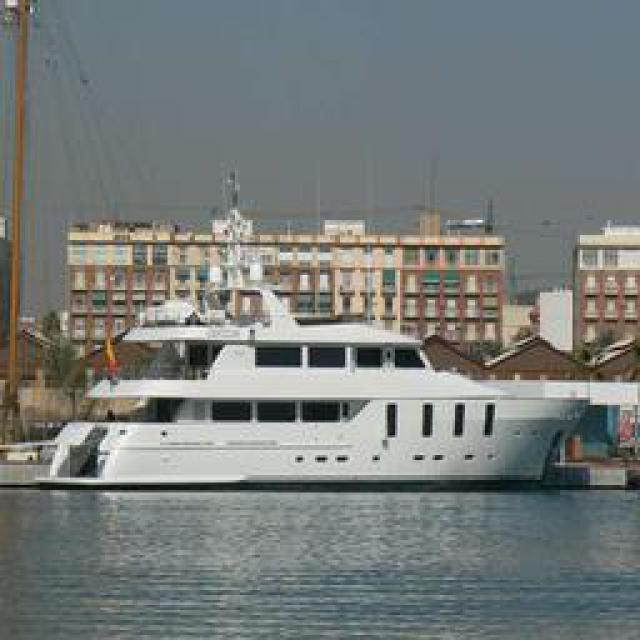Ship: (17, 286, 630, 496)
